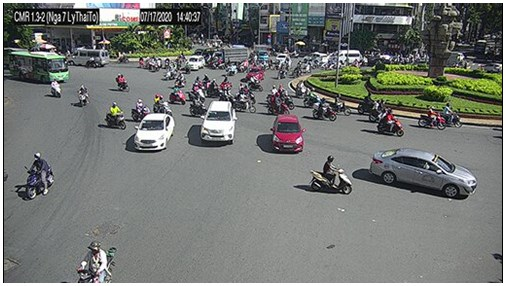xe_buyt: (9, 51, 70, 83)
xe_hoi: (370, 147, 478, 198), (133, 113, 175, 152), (199, 101, 233, 141), (271, 113, 305, 153), (185, 55, 204, 70)
xe_khach: (65, 47, 109, 68), (329, 48, 361, 65)
xe_may: (73, 241, 117, 283), (309, 155, 353, 197), (21, 152, 53, 200), (375, 108, 403, 136), (418, 104, 446, 129), (434, 103, 462, 128), (368, 98, 394, 123), (104, 101, 126, 130), (232, 90, 256, 114), (312, 98, 337, 121), (266, 91, 290, 114), (330, 93, 352, 116), (300, 86, 322, 109), (266, 82, 288, 105), (130, 98, 151, 122), (152, 95, 173, 116), (187, 96, 208, 117), (167, 84, 186, 107), (188, 82, 207, 101), (244, 73, 264, 91), (113, 73, 129, 93), (164, 60, 178, 82), (291, 59, 307, 77), (48, 77, 61, 99), (276, 57, 289, 79), (207, 78, 222, 97), (77, 85, 88, 109), (117, 49, 132, 65), (173, 69, 185, 88), (219, 75, 231, 94), (85, 55, 97, 69)
xe_tai: (209, 47, 249, 65), (252, 43, 268, 62)
